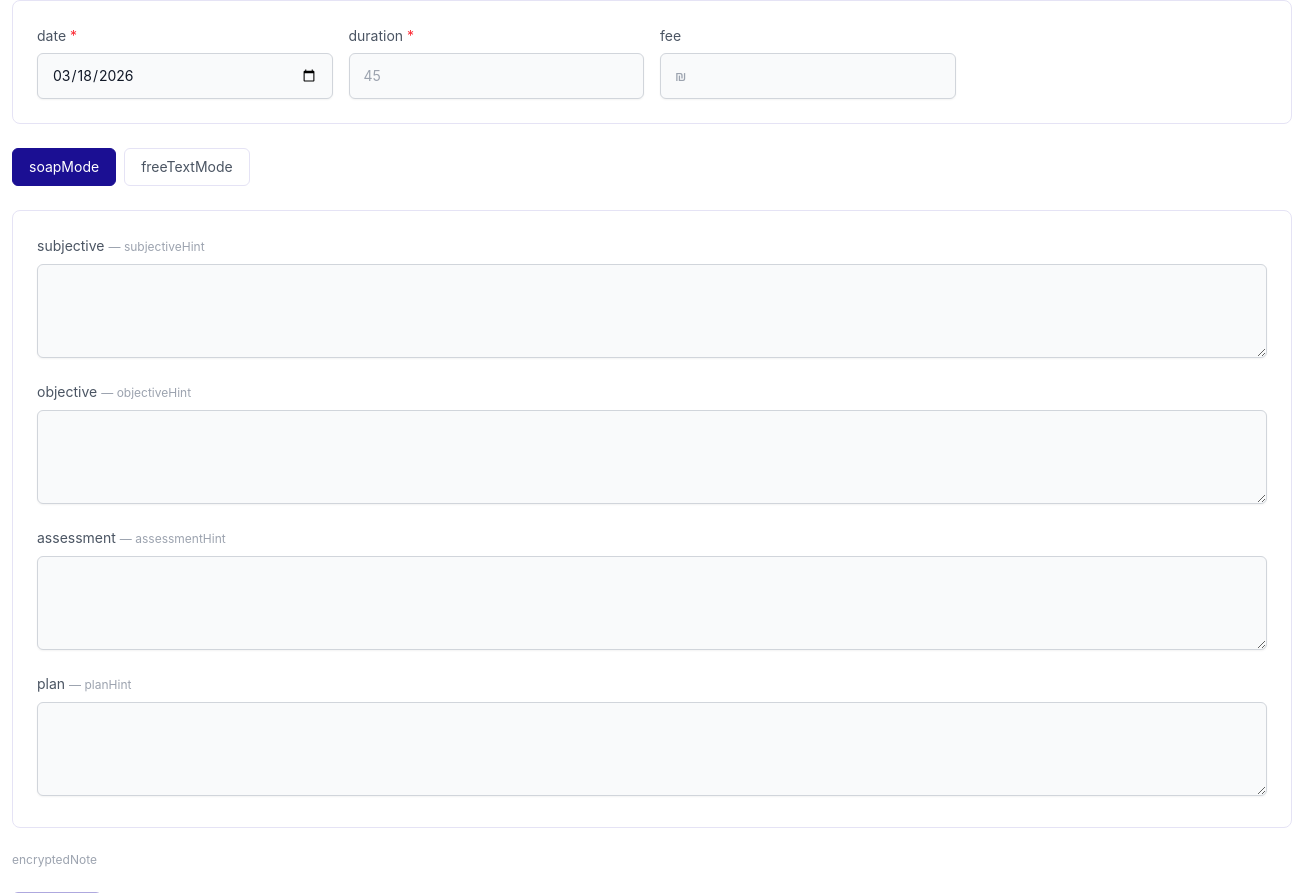
it: SessionNoteForm › can toggle to free text mode
This screenshot has width=1304, height=893.
// Click free text mode
Click the button "freeTextMode" at (187, 167), box [124,148,250,186]
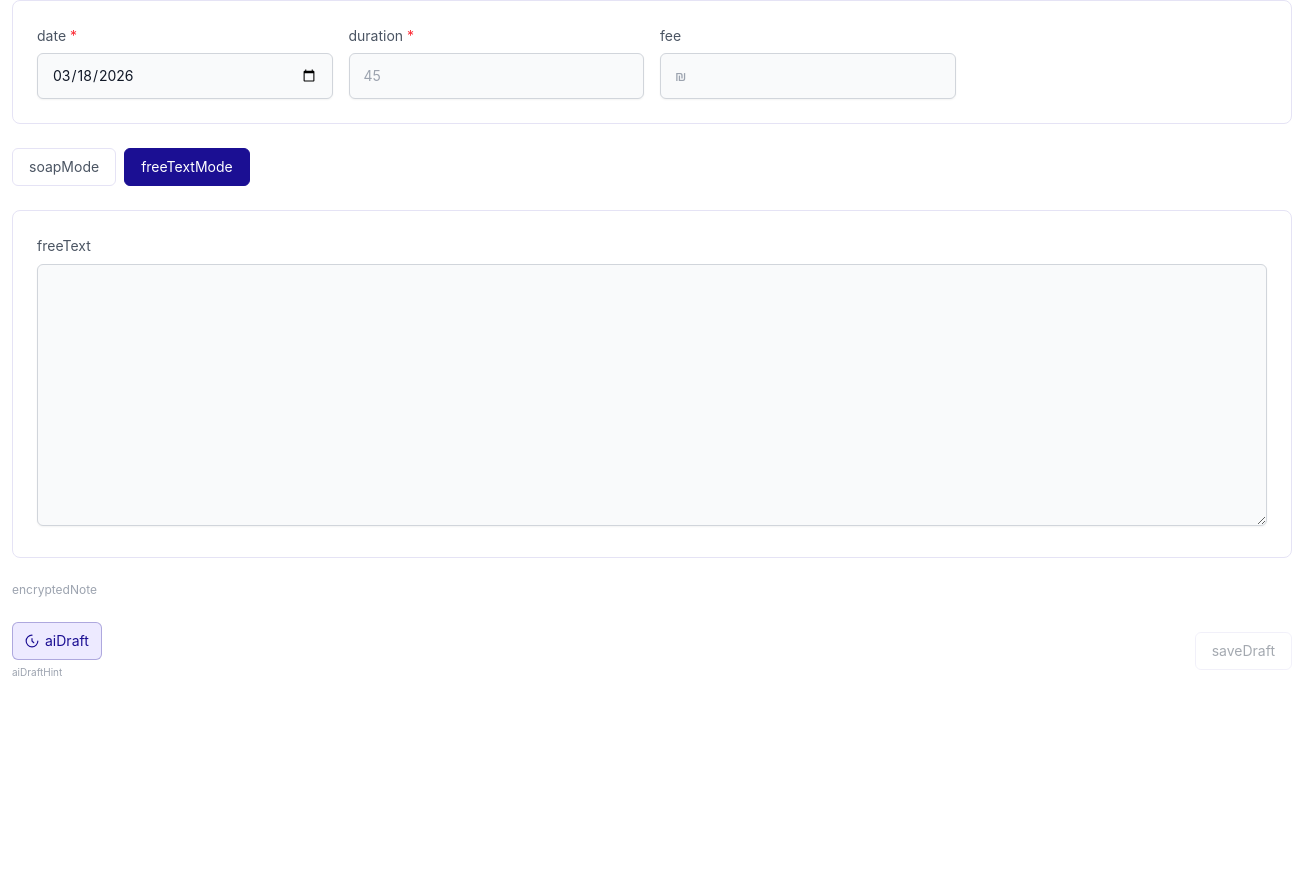
Expected: the text "freeText" is shown, [37,237,91,254]
Expected: the text "subjective" is gone
Expected: the text "objective" is gone
